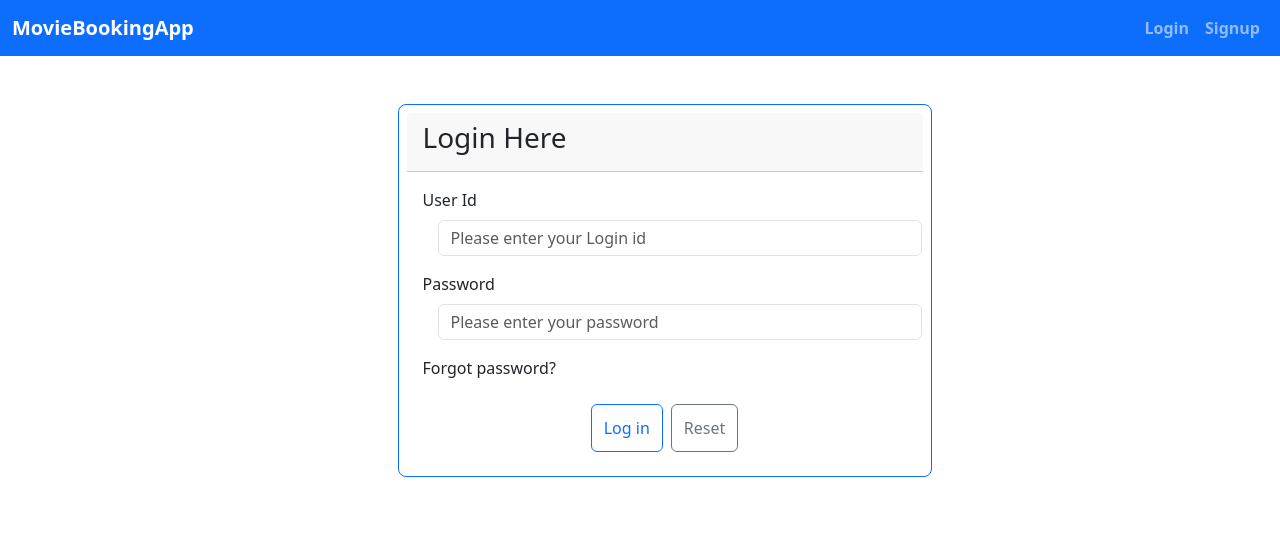
Test case: Login Component › displays error message when loginId is empty
Step 1. Click the button "Log in" → [627, 428], box [591, 404, 663, 452]
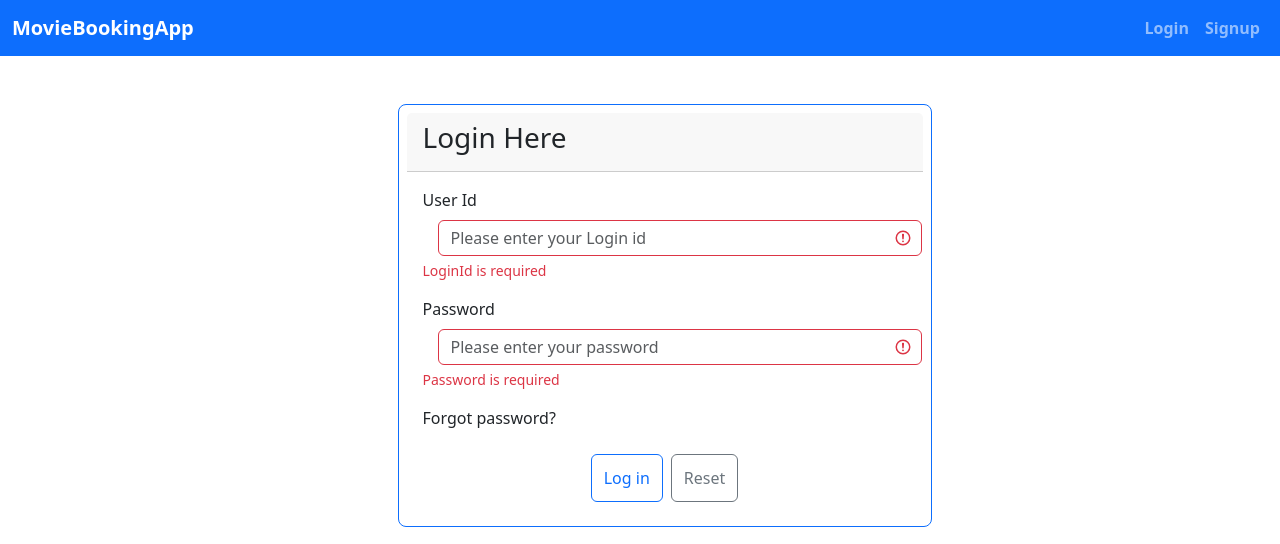
expect the text "LoginId is required" is shown: met, box [422, 261, 546, 280]
